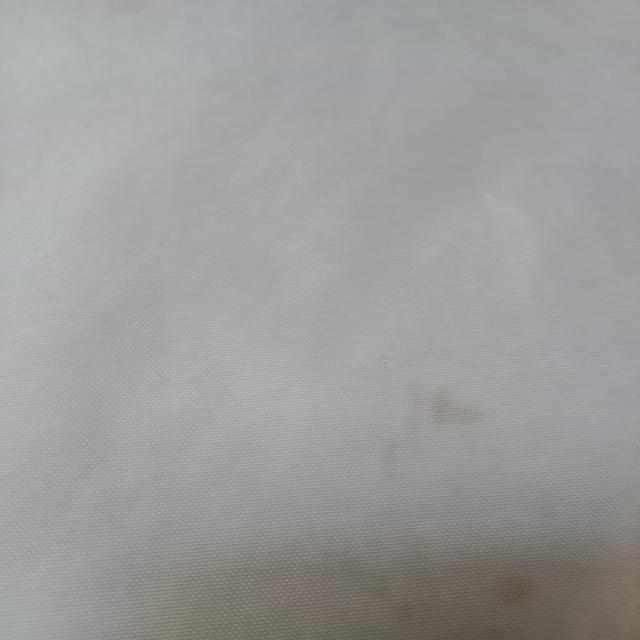stain: (403, 375, 507, 436), (478, 566, 550, 614)
